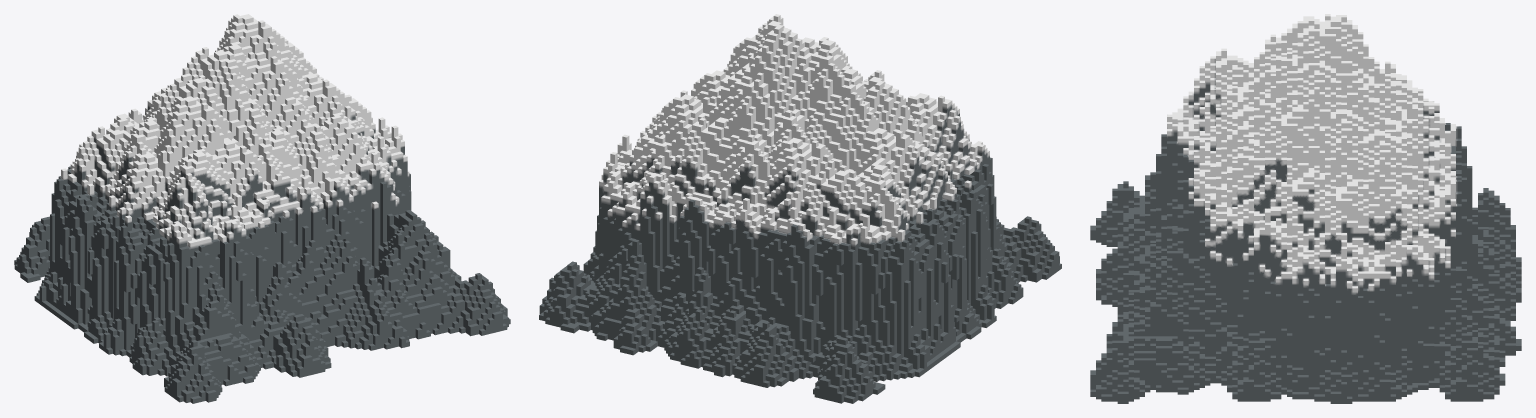
File: big_rocks_4_overtile.glb
3 views of the same model, side by side, from view 1: azimuth 30°, elevation 25°; view 2: azimuth 150°, elevation 25°; view 3: azimuth 270°, elevation 25° (orthographic). The views are drawn at different scales.
Parts seen in each view (by area): view 1: big_rocks_4_overtile; view 2: big_rocks_4_overtile; view 3: big_rocks_4_overtile.
Boxes of the visible parts, <box> form: big_rocks_4_overtile: <box>14,14,510,403</box>; big_rocks_4_overtile: <box>539,14,1061,403</box>; big_rocks_4_overtile: <box>1090,14,1521,403</box>.
Bounding box in the file's own units: 7.9 × 6 × 7.9.
1 material, 1 textured.
